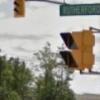traffic lights: (61, 30, 95, 70)
